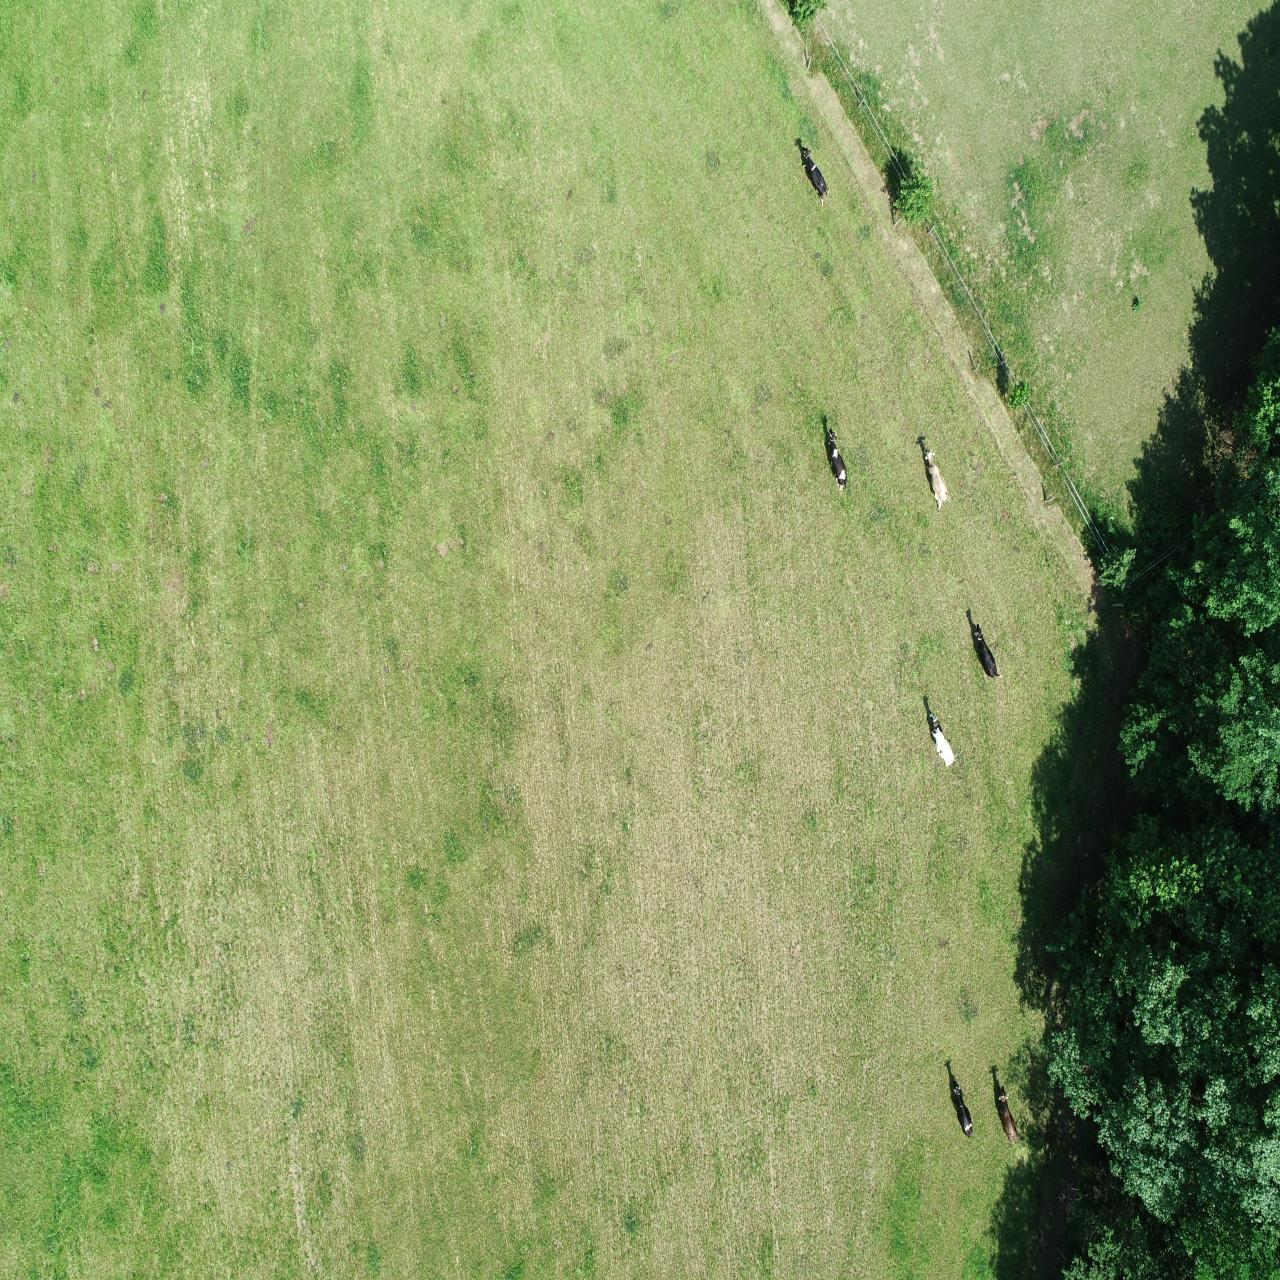cow: (921, 708, 960, 769), (799, 141, 833, 210), (969, 622, 1005, 685), (920, 447, 953, 512), (822, 422, 852, 492), (947, 1075, 975, 1139), (993, 1083, 1020, 1146)
